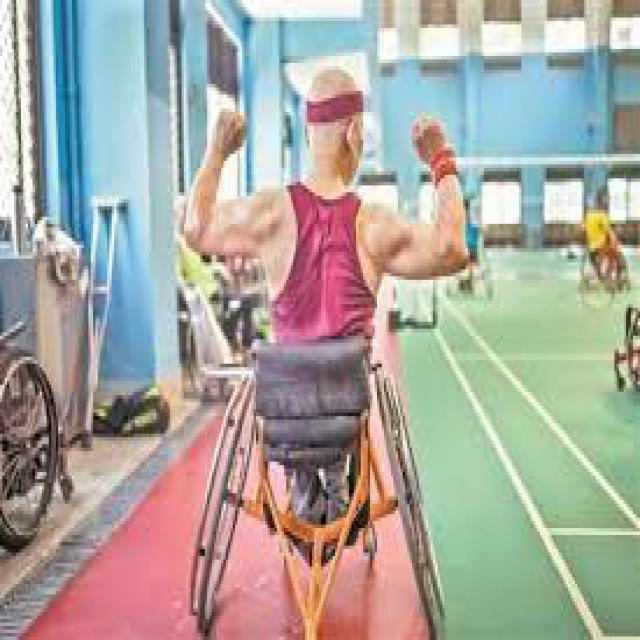wheelchairs: (162, 314, 466, 636)
